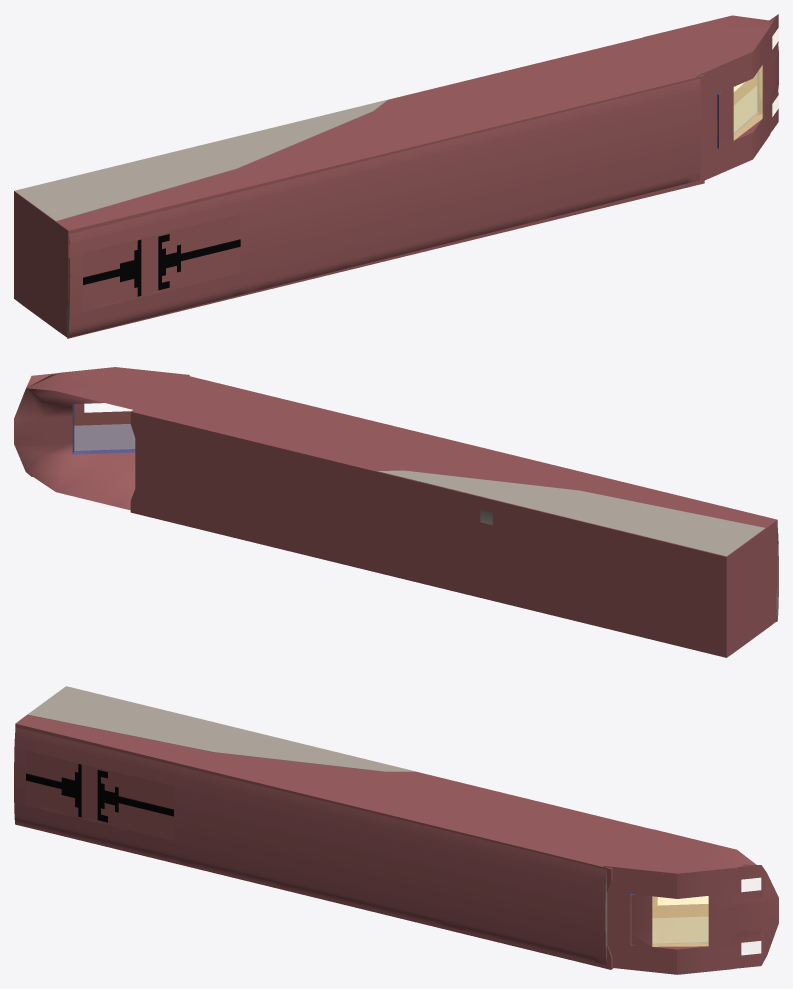
File: asset7.glb
3 views of the same model, one above another, from view 1: azimuth 30°, elevation 25°; view 2: azimuth 150°, elevation 25°; view 3: azimuth 330°, elevation 25° (orthographic). The views are drawn at different scales.
Parts seen in each view (by area): view 1: Cylinder2, Cube1_copy12, Cylinder13, Cylinder13_copy14, Cube13_copy14, Cube13_copy16; view 2: Cube1_copy12, Cylinder13, Cylinder13_copy14; view 3: Cylinder2, Cube1_copy12, Cylinder13, Cylinder13_copy14, Cube13_copy14, Cube13_copy16.
Part boxes in pixels (left/top/right/bottom): Cylinder2: left=66, top=78, right=701, bottom=338; Cube1_copy12: left=14, top=37, right=704, bottom=338; Cylinder13: left=643, top=14, right=778, bottom=180; Cylinder13_copy14: left=15, top=99, right=387, bottom=221; Cube13_copy14: left=158, top=234, right=180, bottom=290; Cube13_copy16: left=120, top=239, right=141, bottom=296; Cube1_copy12: left=130, top=376, right=777, bottom=657; Cylinder13: left=14, top=367, right=189, bottom=510; Cylinder13_copy14: left=376, top=470, right=765, bottom=556; Cylinder2: left=14, top=727, right=607, bottom=964; Cube1_copy12: left=15, top=715, right=657, bottom=969; Cylinder13: left=603, top=829, right=778, bottom=974; Cylinder13_copy14: left=27, top=686, right=416, bottom=771; Cube13_copy14: left=97, top=770, right=118, bottom=822; Cube13_copy16: left=61, top=764, right=81, bottom=817.
Size of what is drawn, in the model's own units: 0.947 by 0.1306 by 0.1205.
